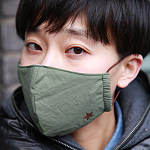face_mask: (18, 1, 116, 135)
